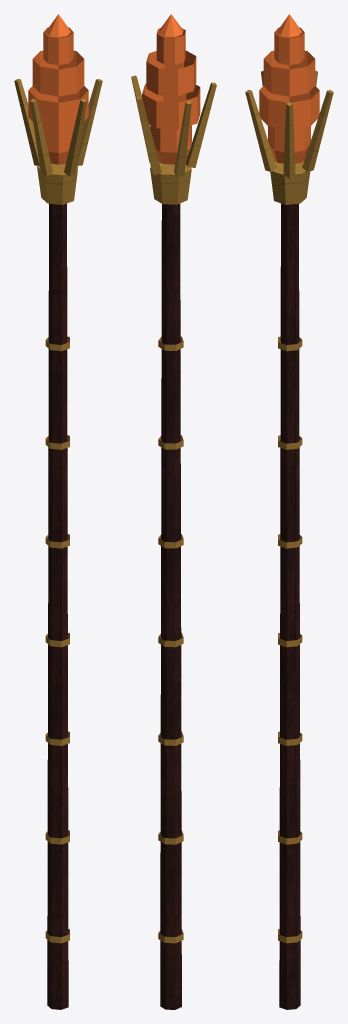
File: wpn_staff_legend.glb
The picture shows the model from 3 angles, left to right: view 1: azimuth 90°, elevation 25°; view 2: azimuth 150°, elevation 25°; view 3: azimuth 270°, elevation 25°; orthographic projection.
Visible parts, largest first — view 1: wpn_staff_legend; view 2: wpn_staff_legend; view 3: wpn_staff_legend.
Boxes of the visible parts, x1=… form: wpn_staff_legend: x1=14, y1=14, x2=102, y2=1009; wpn_staff_legend: x1=131, y1=14, x2=216, y2=1009; wpn_staff_legend: x1=245, y1=14, x2=333, y2=1009.
Bounding box in the file's own units: 0.1965 × 2.54 × 0.2057.
Materials: 3 (3 with a texture image).
